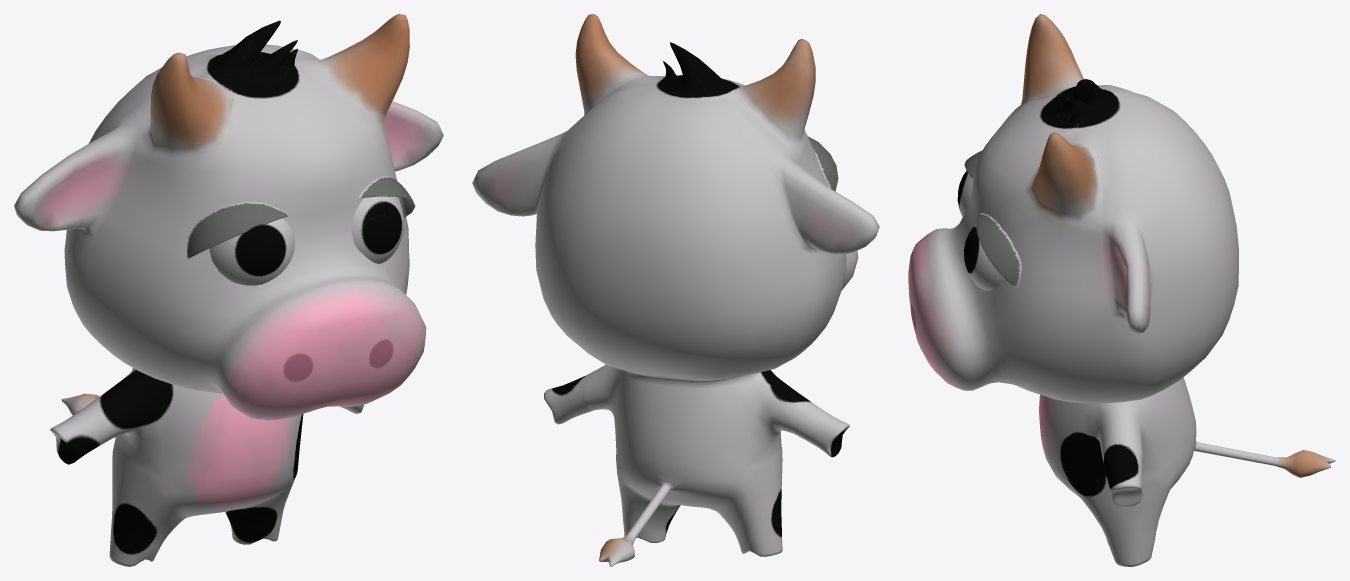
The model's file is cow game model white.fbx.
The picture shows the model from 3 angles, left to right: view 1: azimuth 30°, elevation 25°; view 2: azimuth 150°, elevation 25°; view 3: azimuth 270°, elevation 25°; orthographic projection. The views are drawn at different scales.
Visible parts, largest first — view 1: node_id47, node_id28, node_id26; view 2: node_id47, node_id28; view 3: node_id47, node_id26.
Part boxes in pixels (x1,y1,x2,y2): node_id47: (14, 14, 443, 566); node_id28: (187, 202, 289, 258); node_id26: (357, 176, 415, 217); node_id47: (472, 14, 879, 566); node_id28: (808, 136, 838, 191); node_id47: (908, 14, 1335, 566); node_id26: (976, 213, 1021, 288).
Bounding box in the file's own units: 0.4212 × 0.5064 × 0.4013.
3 materials, 3 textured.
